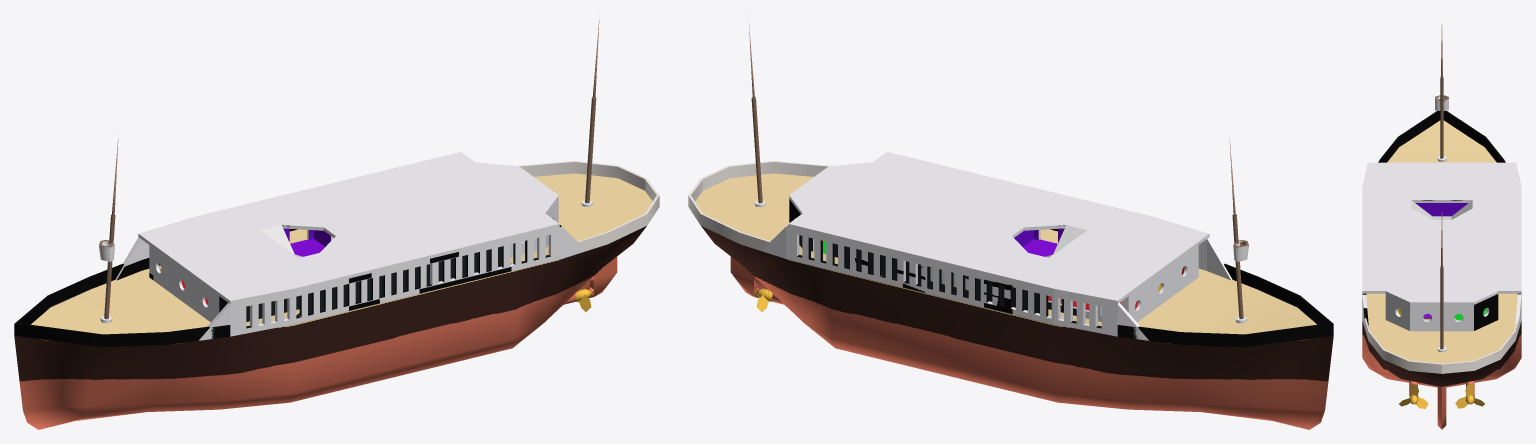
Rendered from P_Ship.fbx.
The picture shows the model from 3 angles, left to right: view 1: azimuth 30°, elevation 25°; view 2: azimuth 150°, elevation 25°; view 3: azimuth 270°, elevation 25°; orthographic projection. The views are drawn at different scales.
Parts seen in each view (by area): view 1: Hull, SuperstructureDeck2, PRODUCTION-SuperstructureDeck1, Railing, Mast1, Mast2; view 2: Hull, SuperstructureDeck2, PRODUCTION-SuperstructureDeck1, Railing, Mast1, Mast2, FloorMainDeck; view 3: SuperstructureDeck2, Hull, PRODUCTION-SuperstructureDeck1, Railing, Mast1, Mast2, Rudder, Staircase, PropellerRight, PropellerLeft.
Part boxes in pixels (x1,y1,x2,y2): Hull: (14, 173, 652, 429); SuperstructureDeck2: (138, 152, 559, 304); PRODUCTION-SuperstructureDeck1: (115, 199, 586, 340); Railing: (14, 161, 659, 347); Mast1: (99, 134, 118, 323); Mast2: (581, 15, 599, 206); Hull: (695, 173, 1333, 429); SuperstructureDeck2: (788, 152, 1209, 304); PRODUCTION-SuperstructureDeck1: (761, 199, 1232, 340); Railing: (688, 161, 1333, 347); Mast1: (1229, 134, 1248, 323); Mast2: (748, 20, 765, 207); FloorMainDeck: (823, 239, 1160, 310); SuperstructureDeck2: (1362, 162, 1521, 304); Hull: (1362, 120, 1521, 395); PRODUCTION-SuperstructureDeck1: (1362, 203, 1521, 331); Railing: (1364, 111, 1519, 373); Mast1: (1435, 23, 1448, 161); Mast2: (1437, 212, 1446, 352); Rudder: (1437, 386, 1446, 429); Staircase: (1411, 200, 1472, 219); PropellerRight: (1455, 383, 1484, 408); PropellerLeft: (1399, 383, 1428, 408).
Bounding box in the file's own units: 6027 × 2539 × 1627.
